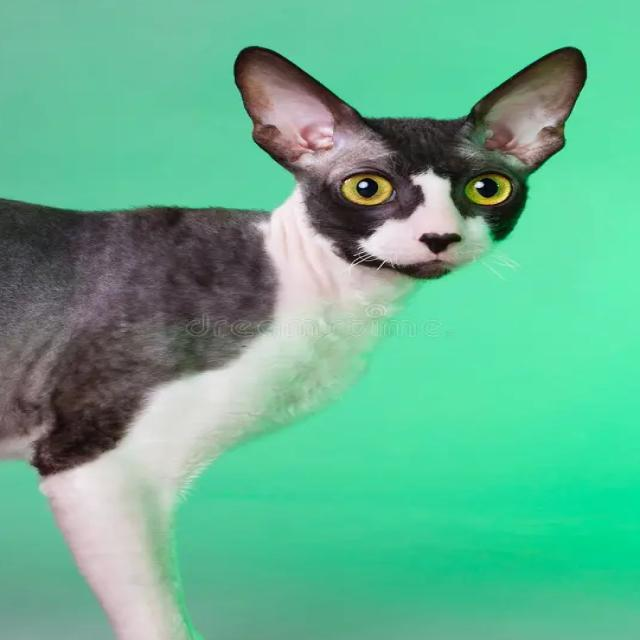Cornish Rex: (0, 39, 598, 640)
